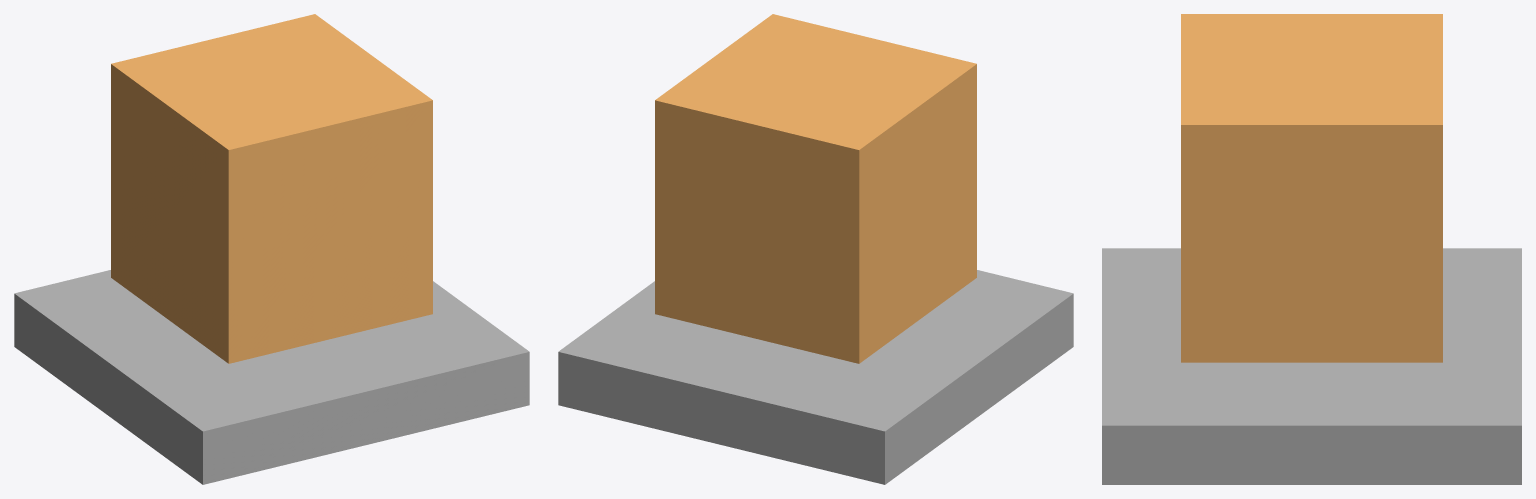
File: variants-box.glb
3 views of the same model, side by side, from view 1: azimuth 30°, elevation 25°; view 2: azimuth 150°, elevation 25°; view 3: azimuth 270°, elevation 25° (orthographic). The views are drawn at different scales.
Visible parts, largest first — view 1: box, base; view 2: box, base; view 3: box, base.
Part boxes in pixels (left/top/right/bottom): box: left=111, top=14, right=432, bottom=363; base: left=14, top=270, right=529, bottom=484; box: left=655, top=14, right=976, bottom=363; base: left=558, top=270, right=1073, bottom=484; box: left=1181, top=14, right=1442, bottom=362; base: left=1102, top=248, right=1521, bottom=484.
Bounding box in the file's own units: 1.6 × 1.38 × 1.6.
